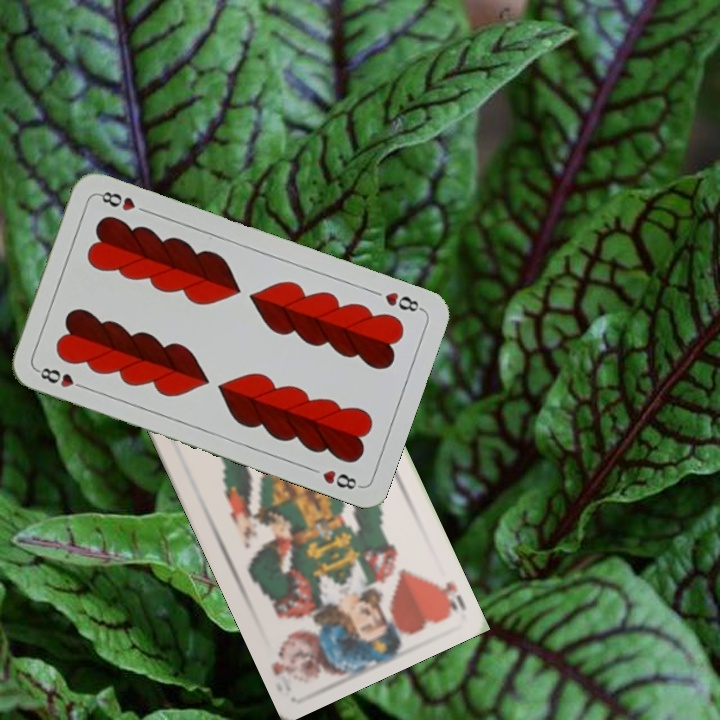H8: (32, 363, 90, 392), (381, 288, 426, 315)
HO: (429, 575, 469, 614)
